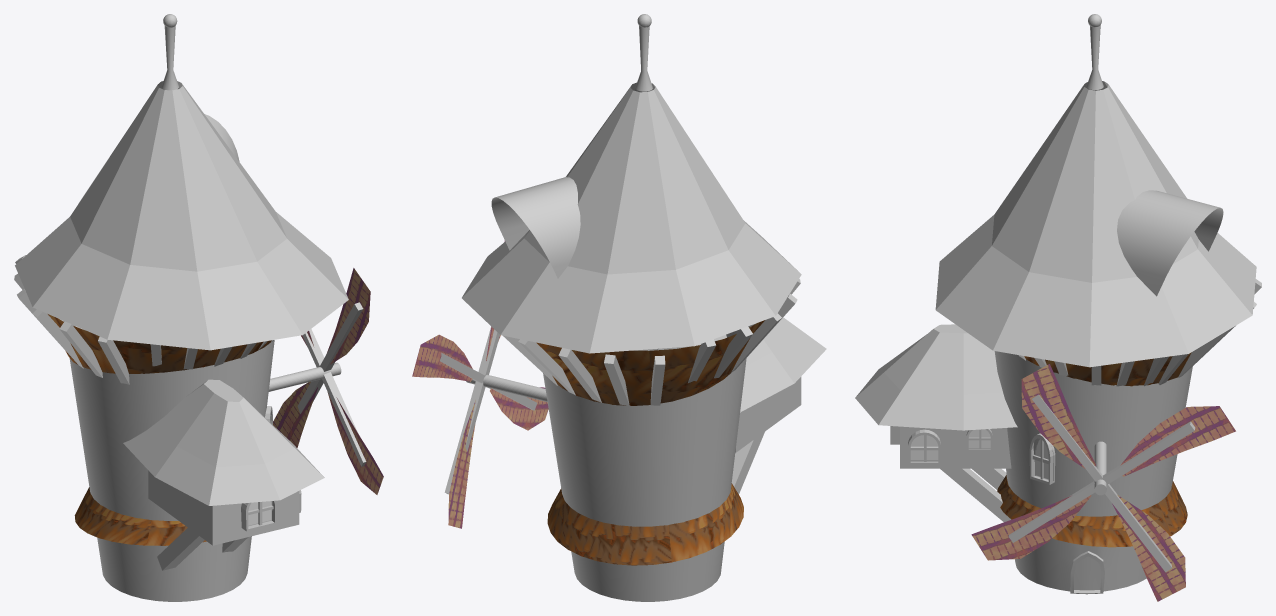
Rendered from WindMill (3).fbx.
3 renders of one model, left to right at view 1: azimuth 30°, elevation 25°; view 2: azimuth 150°, elevation 25°; view 3: azimuth 270°, elevation 25°, orthographic. The views are drawn at different scales.
Parts seen in each view (by area): view 1: Cylinder.003, Cube.001, Cylinder, Cylinder.001, Plane.001, Cube, Cylinder.002, Cube.017, Cylinder.004, Cube.002, Cylinder.007, Cylinder.006 (+1 smaller); view 2: Cylinder.003, Cylinder, Cylinder.004, Cylinder.002, Plane.001, Cylinder.005, Cube.017, Cylinder.001, Cube.001, Cube, Cylinder.006, Cube.002 (+1 smaller); view 3: Cylinder.003, Plane.001, Cylinder, Cube.001, Cylinder.005, Cylinder.001, Cylinder.004, Cube, Cylinder.007, Cube.017, Cylinder.002, Cube.002 (+4 smaller).
Boxes of the visible parts, x1,y1,x2,y2 form: Cylinder.003: [15, 81, 348, 350]; Cube.001: [123, 379, 324, 505]; Cylinder: [64, 321, 274, 520]; Cylinder.001: [97, 536, 251, 601]; Plane.001: [273, 268, 383, 494]; Cube: [148, 470, 299, 545]; Cylinder.002: [48, 314, 271, 373]; Cube.017: [14, 255, 273, 384]; Cylinder.004: [74, 487, 206, 545]; Cube.002: [157, 528, 248, 570]; Cylinder.007: [241, 406, 301, 531]; Cylinder.006: [268, 362, 341, 391]; Cylinder.003: [462, 82, 801, 353]; Cylinder: [543, 326, 750, 526]; Cylinder.004: [547, 483, 743, 565]; Cylinder.002: [536, 320, 764, 405]; Plane.001: [412, 240, 548, 528]; Cylinder.005: [491, 176, 580, 278]; Cube.017: [503, 279, 800, 405]; Cylinder.001: [571, 541, 724, 601]; Cube.001: [657, 317, 826, 412]; Cube: [735, 376, 801, 452]; Cylinder.006: [466, 374, 547, 401]; Cube.002: [731, 432, 764, 494]; Cylinder.003: [935, 81, 1256, 367]; Plane.001: [971, 364, 1235, 601]; Cylinder: [994, 351, 1192, 516]; Cube.001: [855, 324, 1017, 430]; Cylinder.005: [1117, 190, 1223, 296]; Cylinder.001: [1015, 538, 1146, 591]; Cylinder.004: [997, 475, 1187, 547]; Cube: [900, 426, 1011, 468]; Cylinder.007: [890, 426, 1055, 484]; Cube.017: [1018, 279, 1261, 386]; Cylinder.002: [1024, 352, 1191, 386]; Cube.002: [940, 468, 1011, 522].
Bounding box in the file's own units: 312 × 541 × 365.
